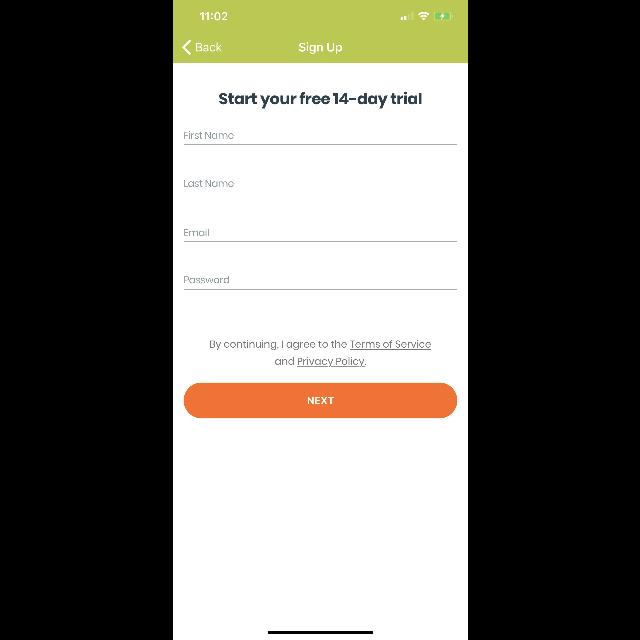icon: (182, 40, 190, 54)
input: (183, 228, 457, 242), (183, 276, 457, 290), (183, 180, 457, 193), (183, 132, 457, 144)
text: (210, 340, 430, 368), (219, 92, 421, 108), (298, 42, 342, 54), (184, 276, 228, 284), (184, 180, 232, 187), (184, 132, 232, 138), (196, 42, 220, 52), (184, 228, 208, 236)
textbutton: (183, 382, 457, 418)
uppertaskbar: (200, 12, 452, 21)
